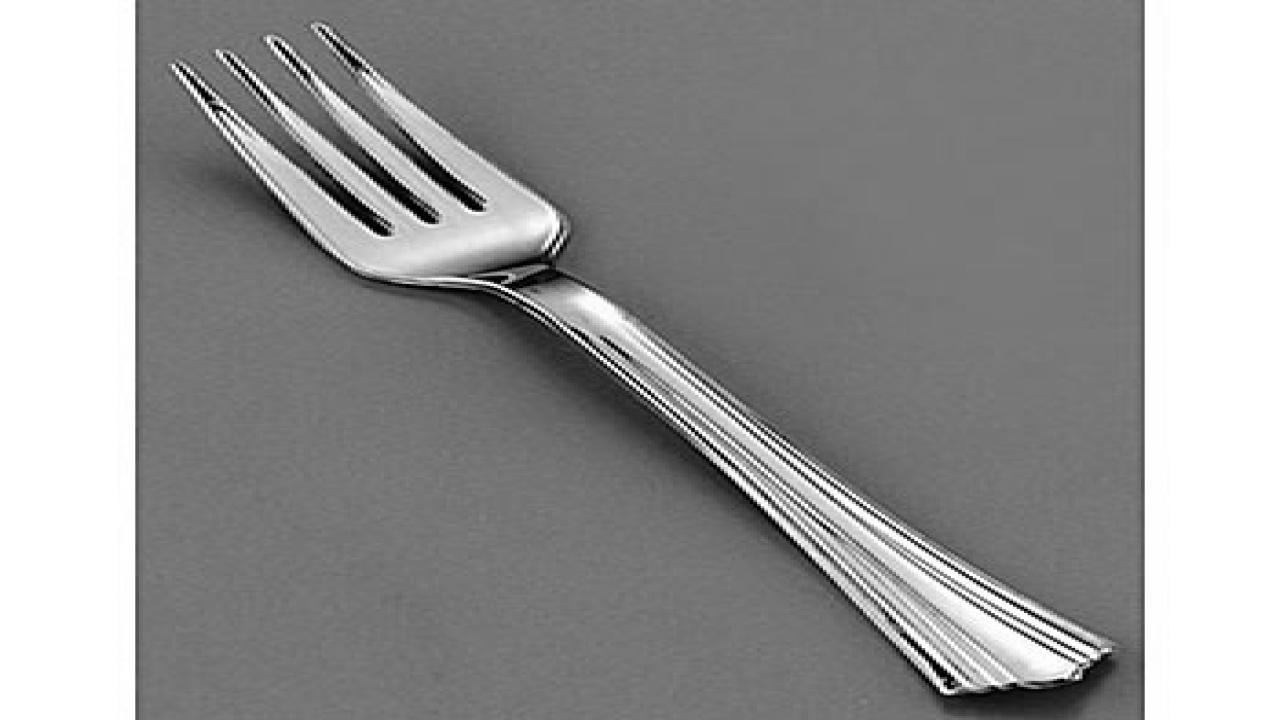fork: (165, 19, 1119, 696)
